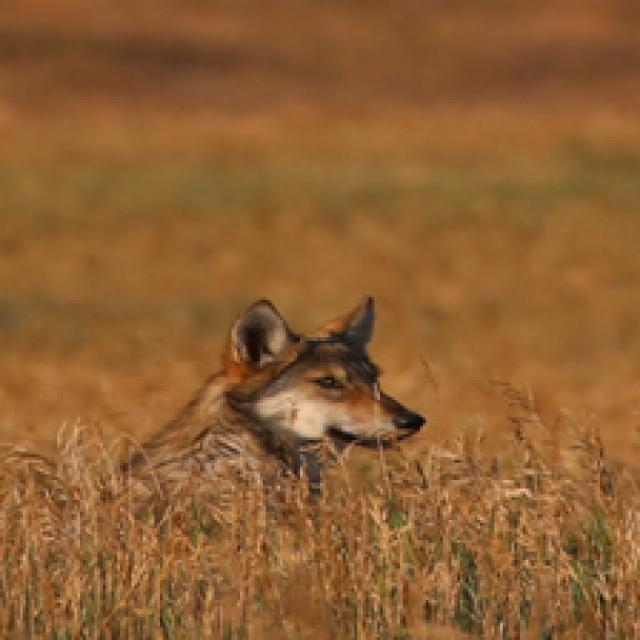wolf: (139, 270, 438, 584)
